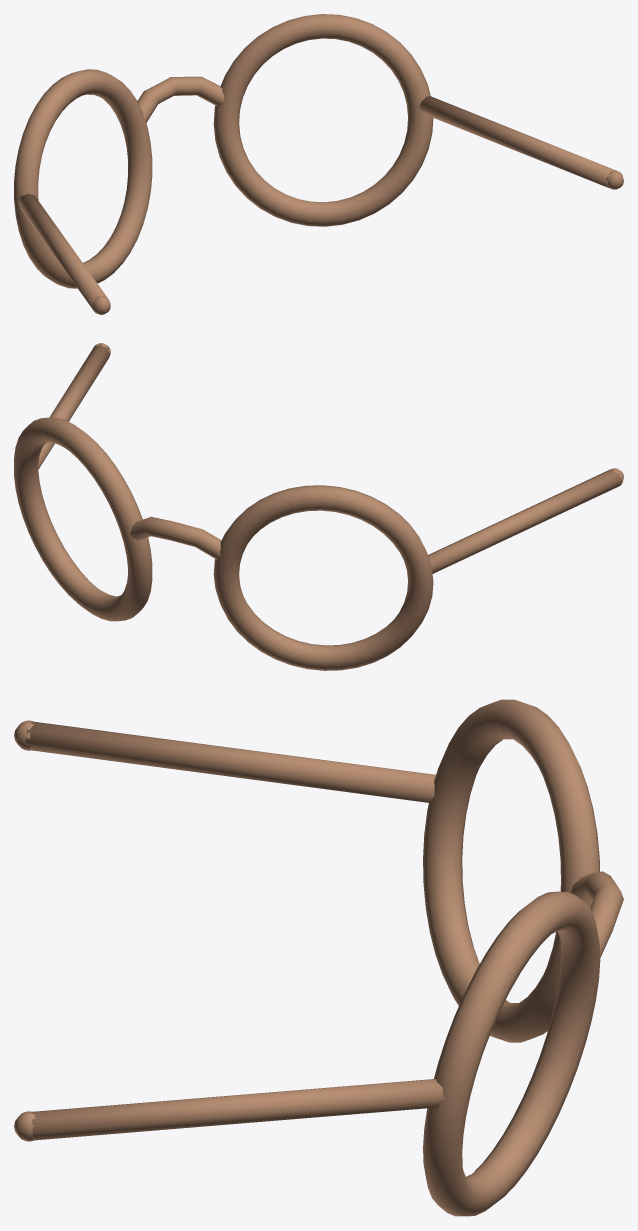
The model's file is round_glasses.glb.
3 views of the same model, one above another, from view 1: azimuth 30°, elevation 25°; view 2: azimuth 150°, elevation 25°; view 3: azimuth 270°, elevation 25° (orthographic). The views are drawn at different scales.
Parts seen in each view (by area): view 1: Head; view 2: Head; view 3: Head.
Part boxes in pixels (x1,y1,x2,y2): Head: (14, 14, 623, 314); Head: (14, 343, 623, 670); Head: (14, 699, 623, 1216).
Bounding box in the file's own units: 0.3876 × 0.1376 × 0.2475.
